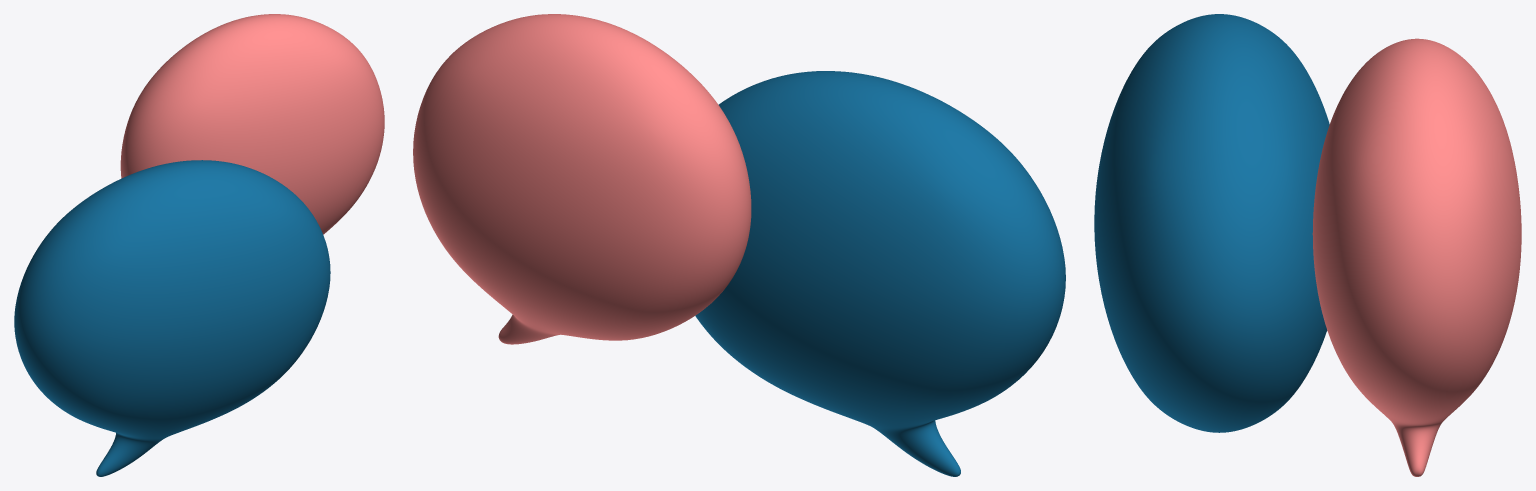
File: chat.fbx
3 renders of one model, left to right at view 1: azimuth 30°, elevation 25°; view 2: azimuth 150°, elevation 25°; view 3: azimuth 270°, elevation 25°, orthographic. The views are drawn at different scales.
Visible parts, largest first — view 1: Chat-Bubble-2; view 2: Chat-Bubble-2; view 3: Chat-Bubble-2.
Boxes of the visible parts, x1=… form: Chat-Bubble-2: x1=14, y1=14, x2=384, y2=476; Chat-Bubble-2: x1=413, y1=14, x2=1065, y2=476; Chat-Bubble-2: x1=1094, y1=14, x2=1521, y2=476.
Bounding box in the file's own units: 197 × 155 × 120.
